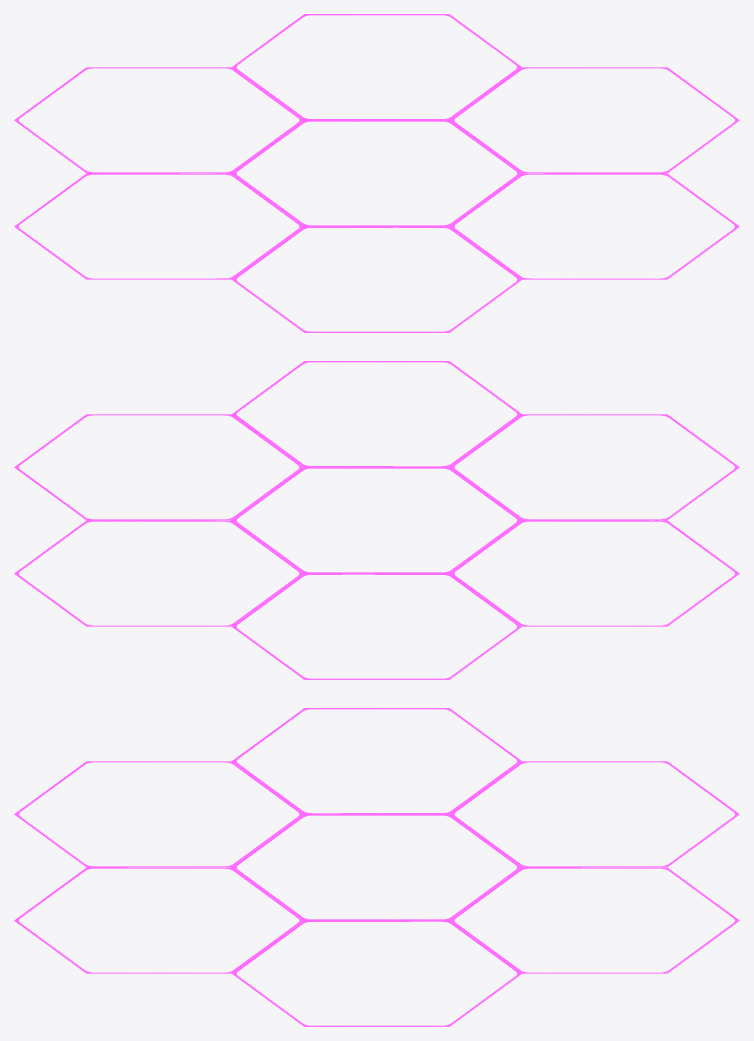
Rendered from outline_pink.glb.
3 renders of one model, top to bottom at view 1: azimuth 30°, elevation 25°; view 2: azimuth 150°, elevation 25°; view 3: azimuth 270°, elevation 25°, orthographic.
Visible parts, largest first — view 1: Outline 2_0; view 2: Outline 2_0; view 3: Outline 2_0.
Part boxes in pixels (<box>): Outline 2_0: <box>14,14,739,332</box>; Outline 2_0: <box>14,361,739,679</box>; Outline 2_0: <box>14,708,739,1026</box>.
Bounding box in the file's own units: 5.2 × 0 × 5.
